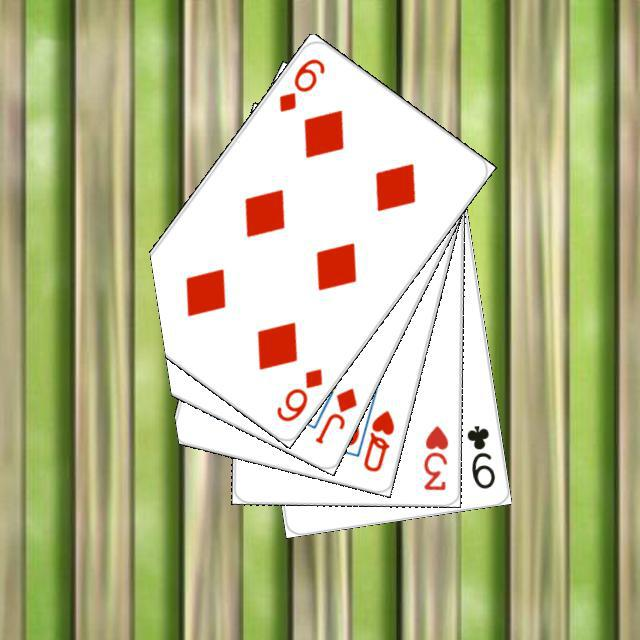3h: (418, 420, 450, 492)
6d: (271, 363, 325, 424), (273, 53, 327, 114)
9c: (461, 420, 497, 491)
Jd: (309, 382, 359, 446)
Qh: (358, 405, 396, 474)
